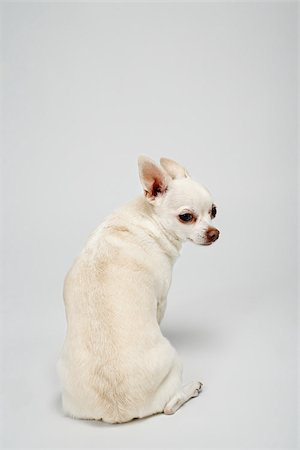dog: (57, 152, 220, 422)
